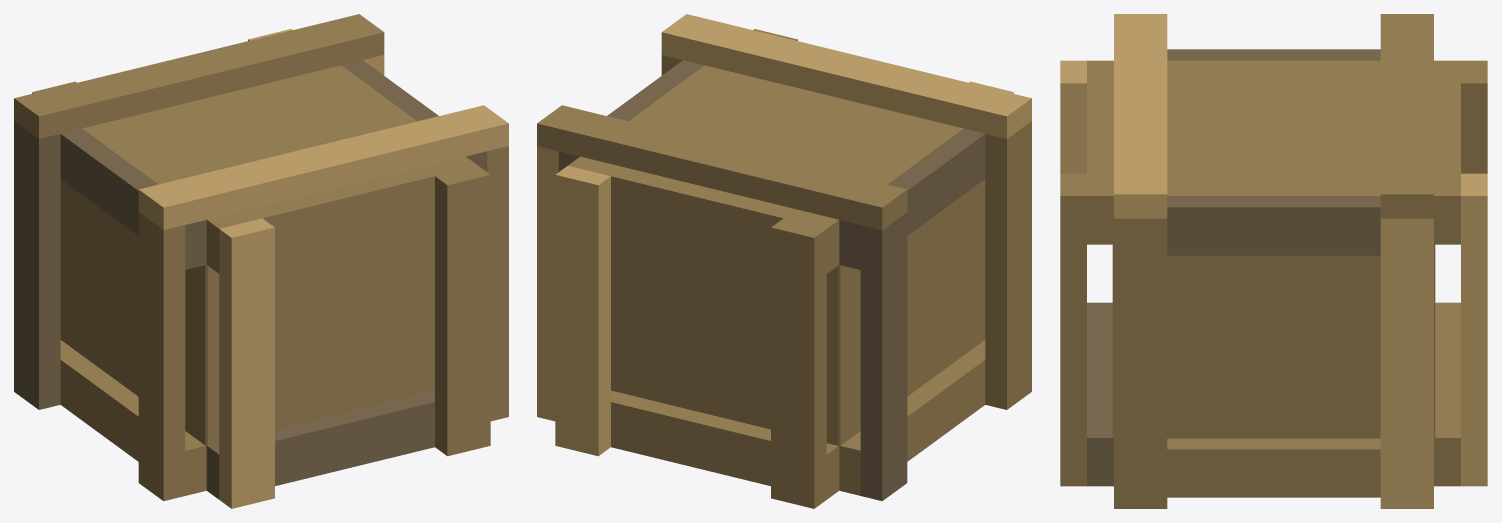
Rendered from Resource Crate.fbx.
3 views of the same model, side by side, from view 1: azimuth 30°, elevation 25°; view 2: azimuth 150°, elevation 25°; view 3: azimuth 270°, elevation 25° (orthographic). The views are drawn at different scales.
Visible parts, largest first — view 1: Crate, Lid; view 2: Crate, Lid; view 3: Crate, Lid.
Boxes of the visible parts, x1,y1,x2,y2 form: Crate: (14, 29, 508, 508); Lid: (14, 14, 508, 230); Crate: (537, 29, 1031, 508); Lid: (537, 14, 1031, 230); Crate: (1060, 49, 1487, 508); Lid: (1114, 14, 1433, 218).
Size of the model in its own units: 81.28 by 66.04 by 81.28.
